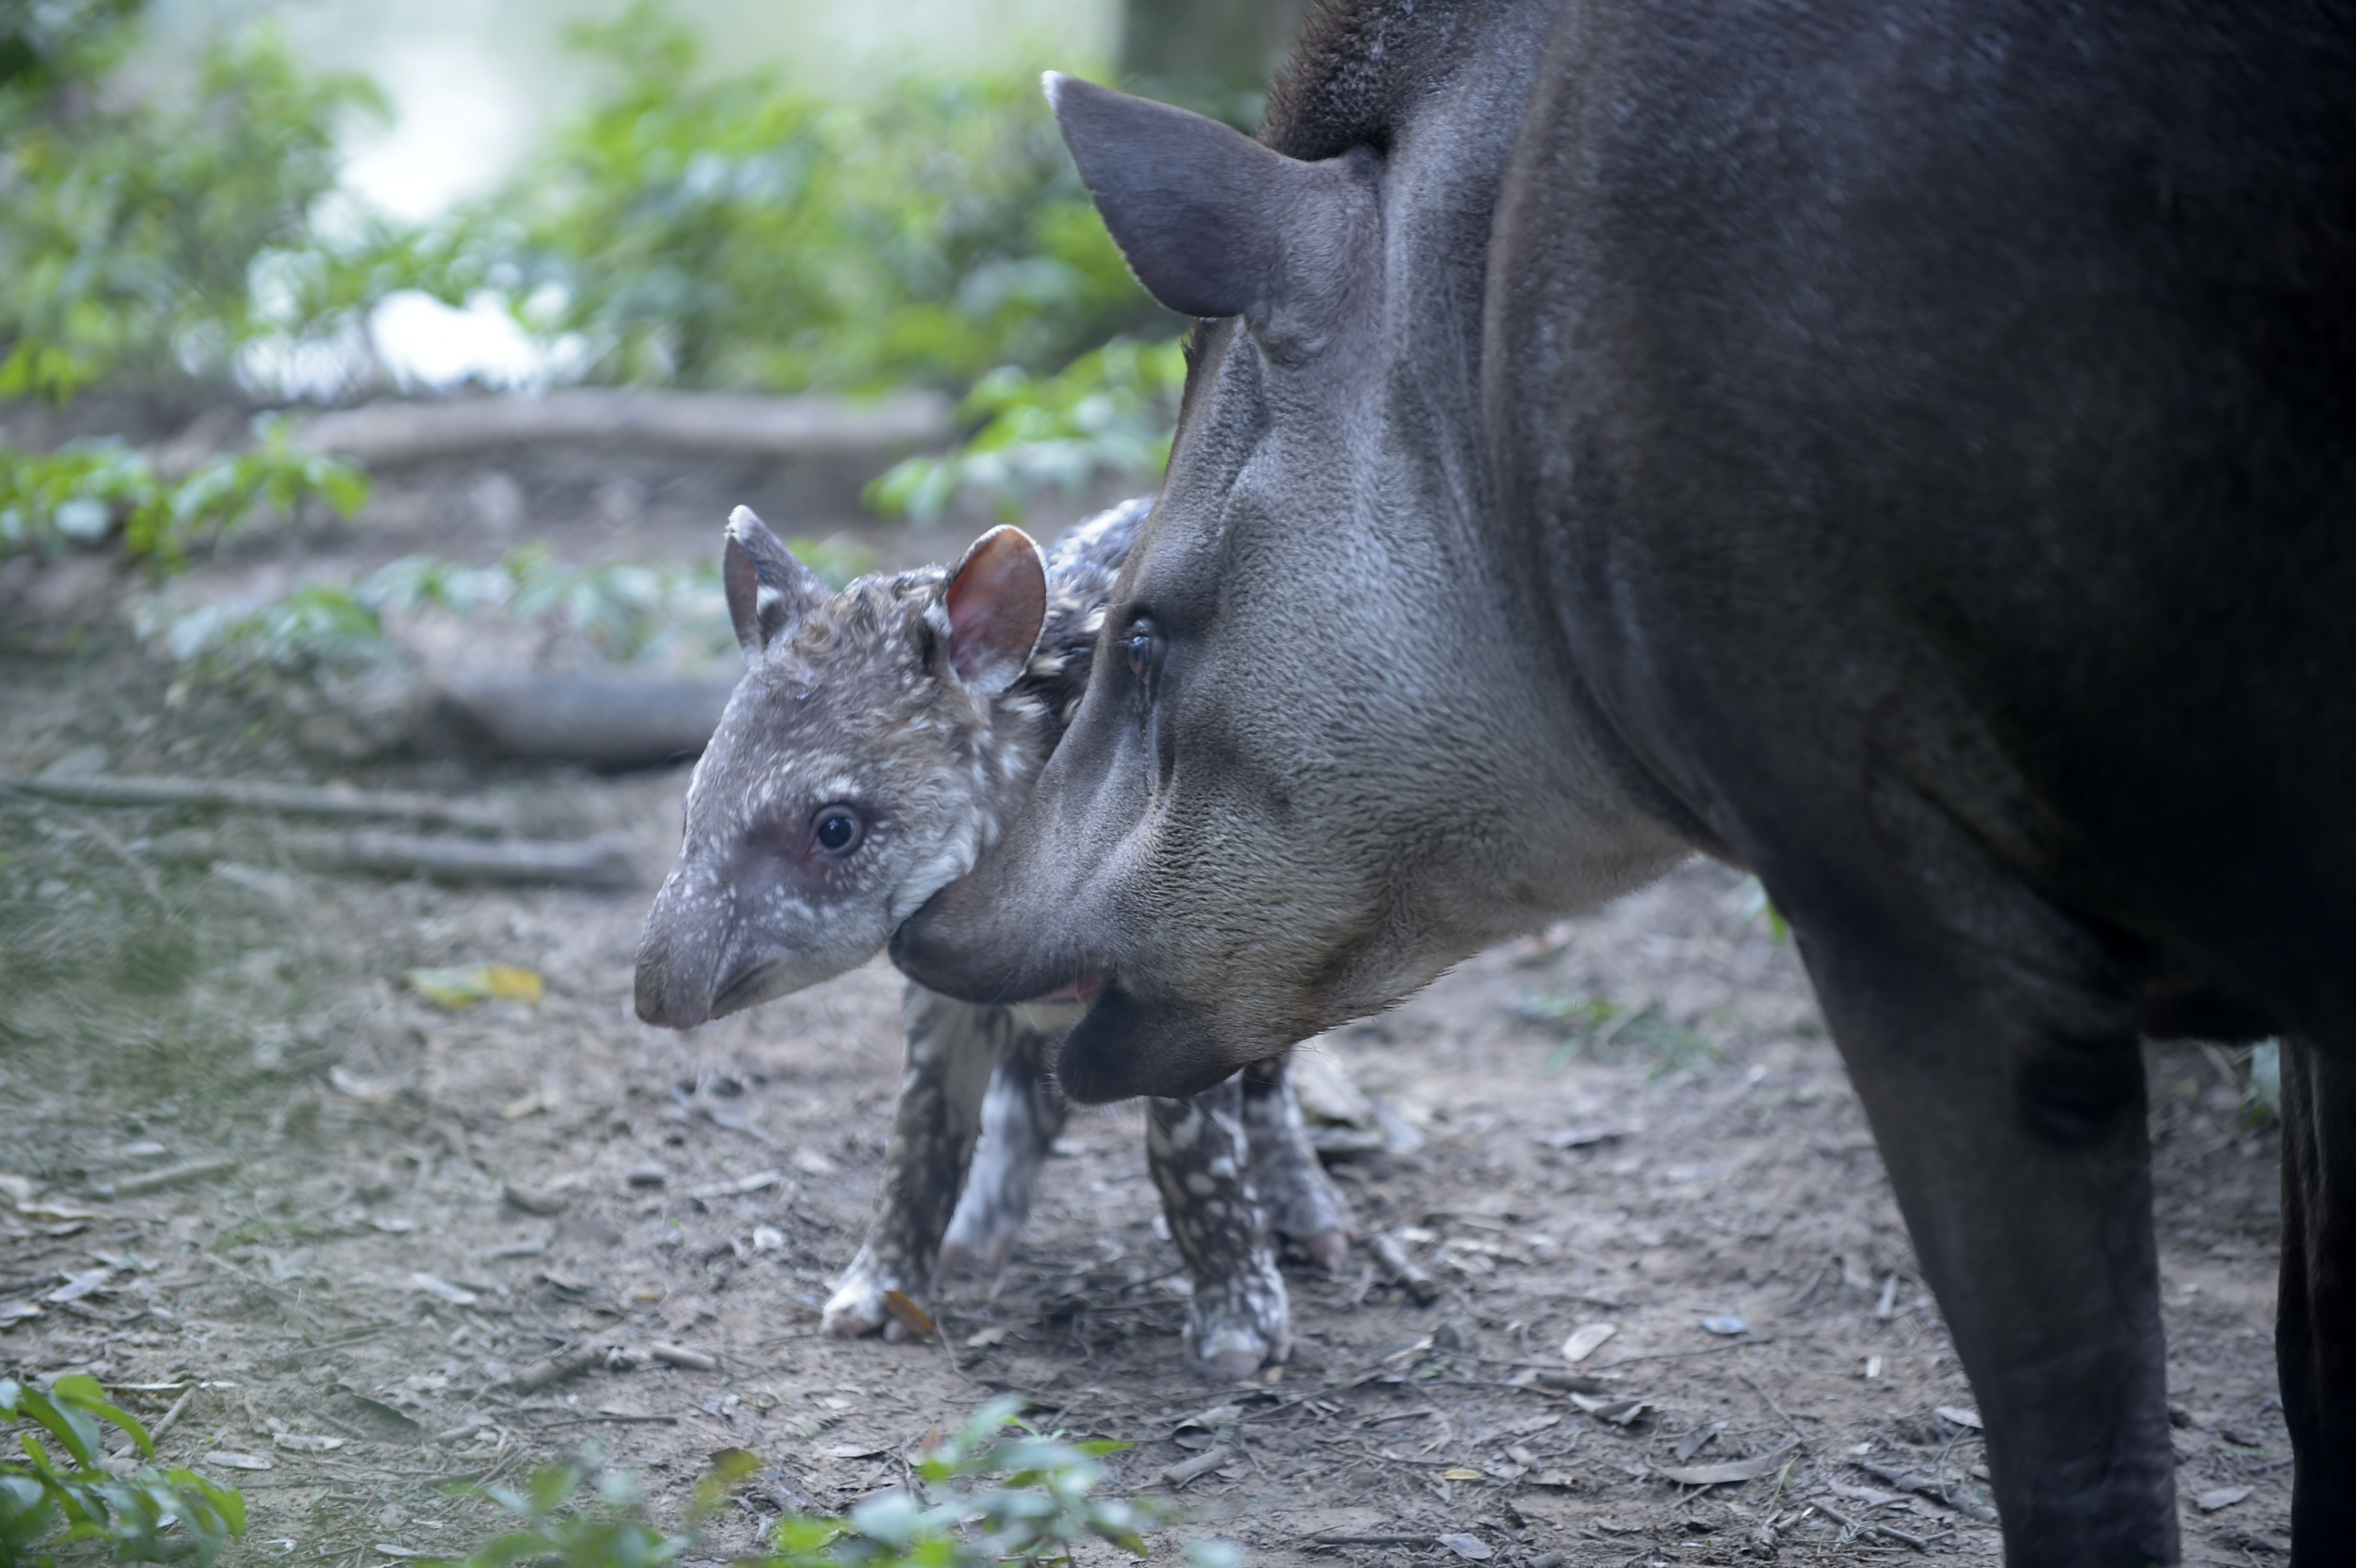Anta: (877, 23, 2333, 1529), (613, 483, 1413, 1398)
